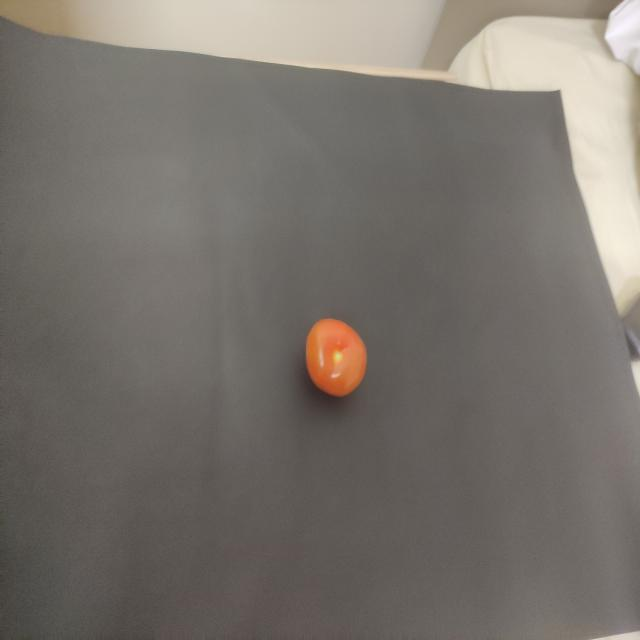sari: (296, 306, 384, 426)
